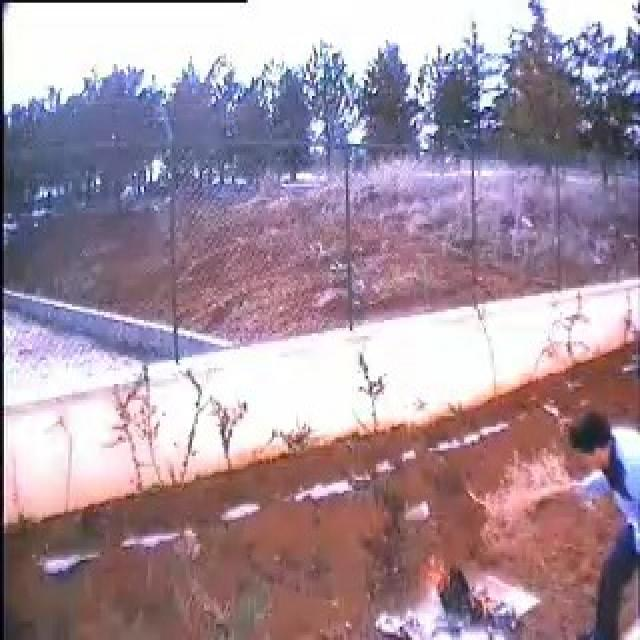fire: (416, 558, 450, 593)
